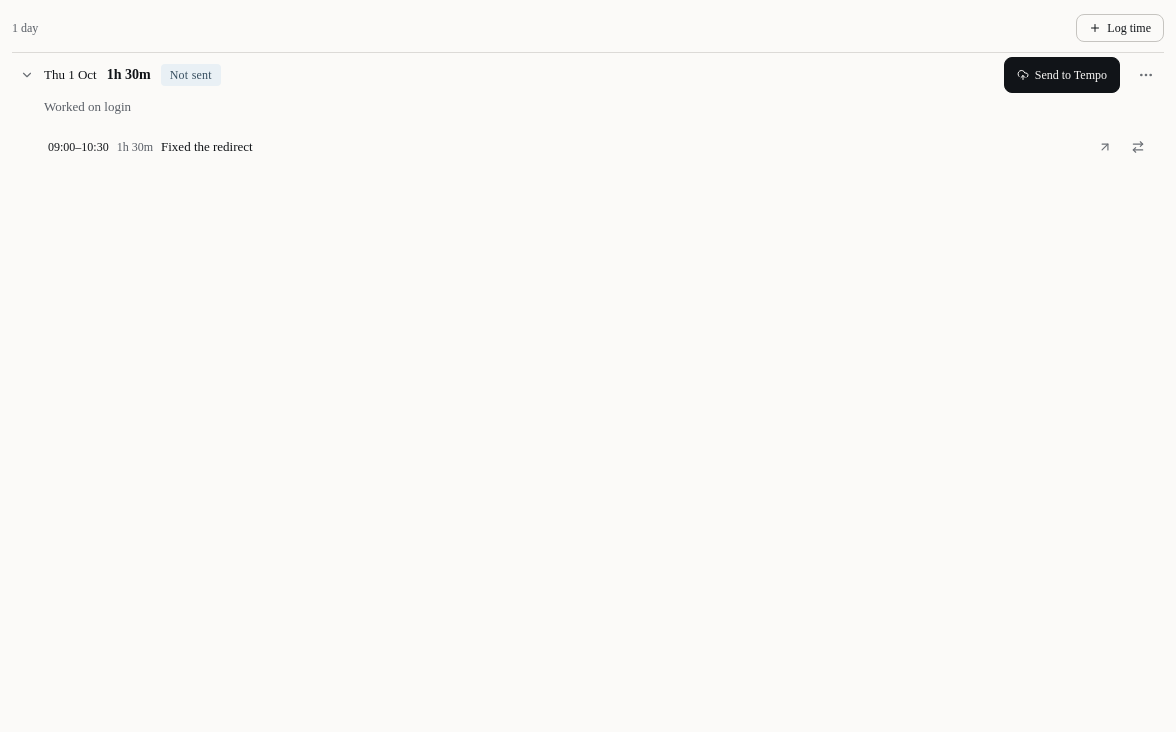
Test: the day menu › closes on an outside click
This screenshot has width=1176, height=732.
Click the button named "More for Thu 1 Oct" at (1146,75), box [1128,57,1164,93]
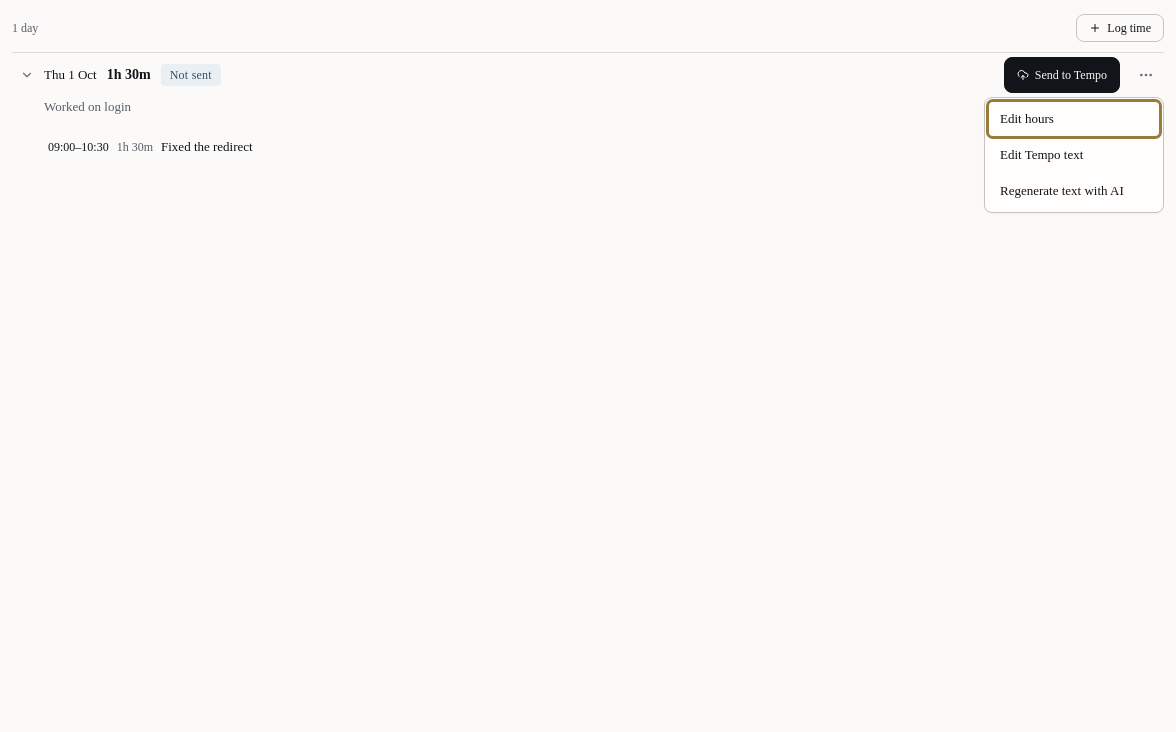
Press the mouse on the element that starts with "1 day" at (588,372), box [12,12,1164,731]
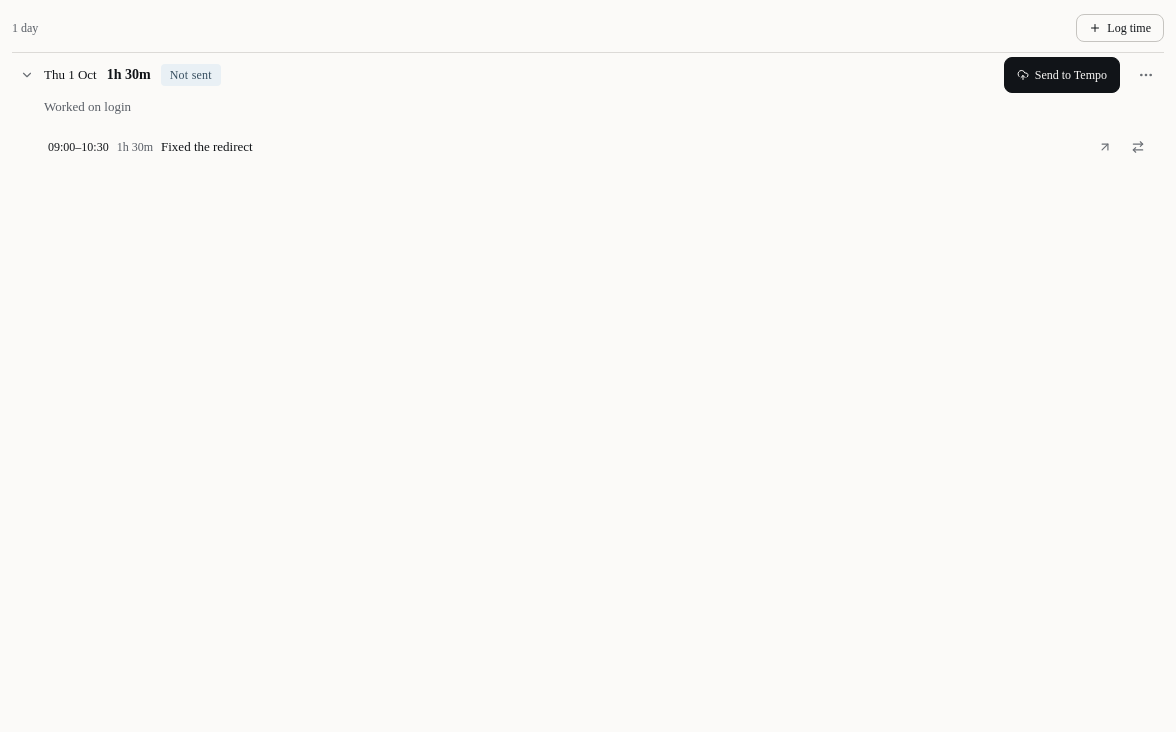
Now the menu is gone
